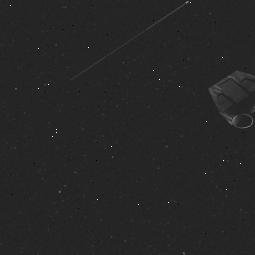xmm_newton: (158, 31, 255, 148)
